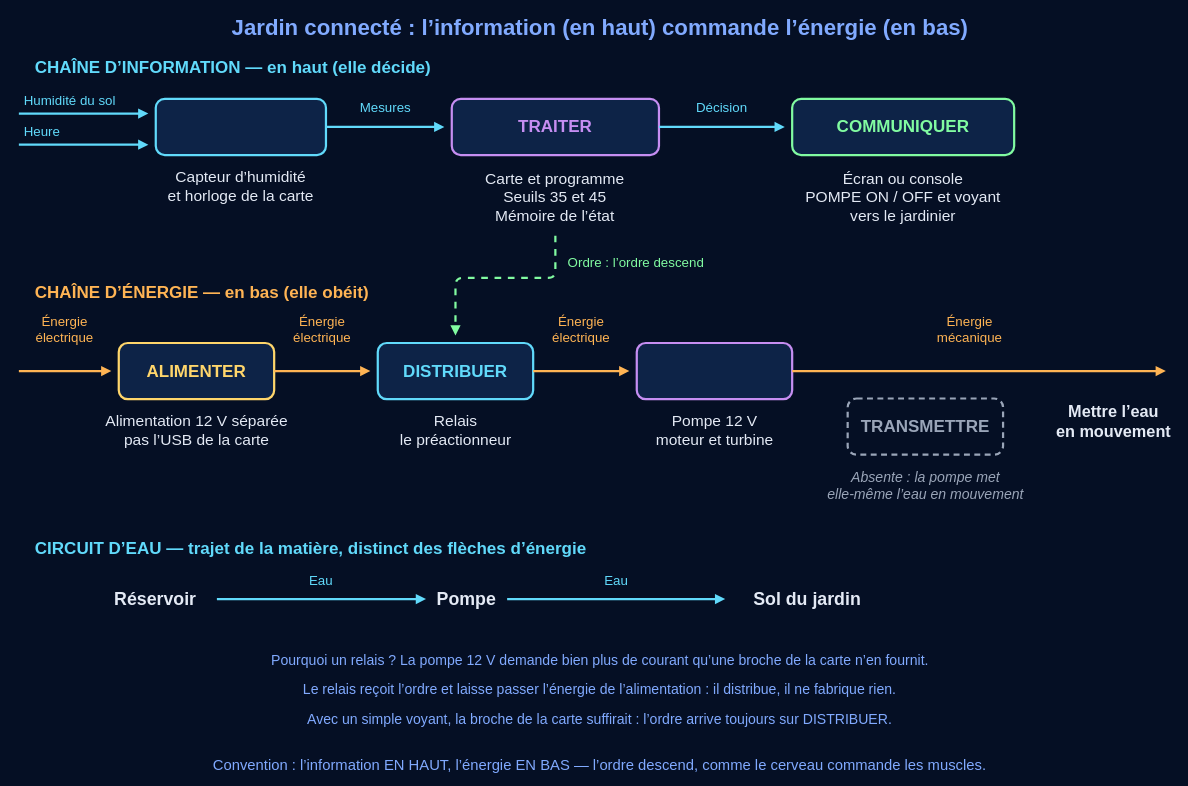
Some shapes in this 1188 by 786 pixel diagram are drawn without their labels. Each missing label, with the box of its shape:
ACQUÉRIR: (154, 97, 327, 156)
CONVERTIR: (635, 342, 793, 400)
